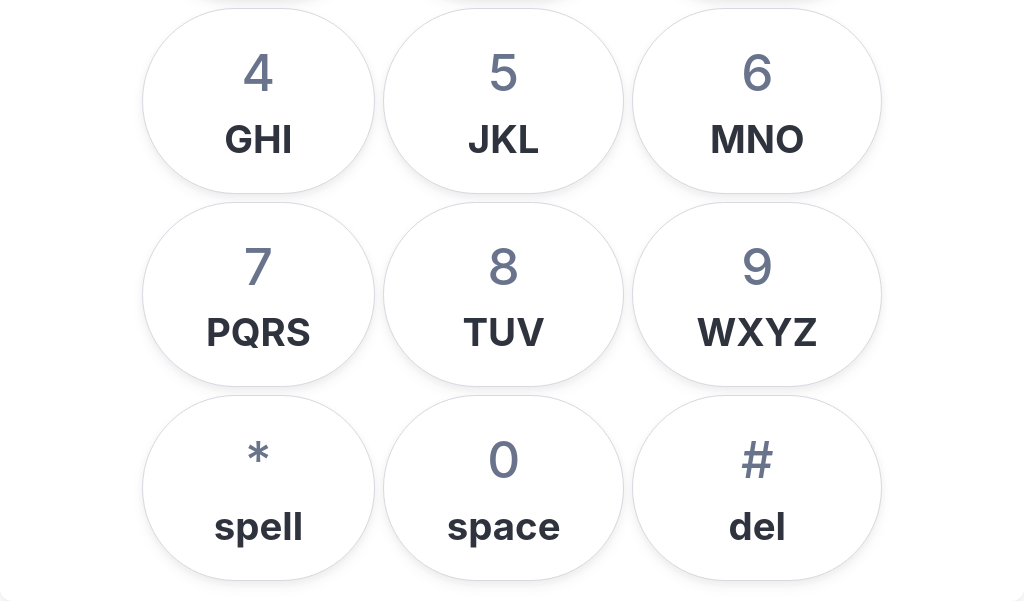
Test case: manual mode › labels '*' as 'esc' while in manual mode, instead of 'spell'
(page scrolled)
Check: the text with class "letters" reads "spell", box [214,503,303,549]
Press the mouse on the button with class "key" showing "* spell" at (258, 488), box [142,395,375,581]
Wait 500 ms
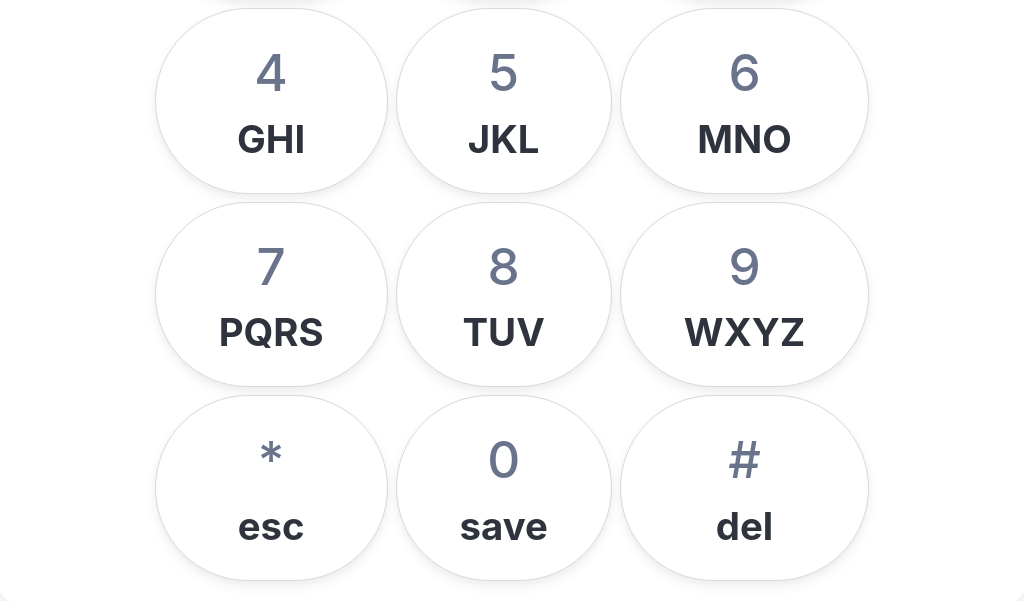
Check: the text with class "letters" reads "esc", box [238,503,305,549]
